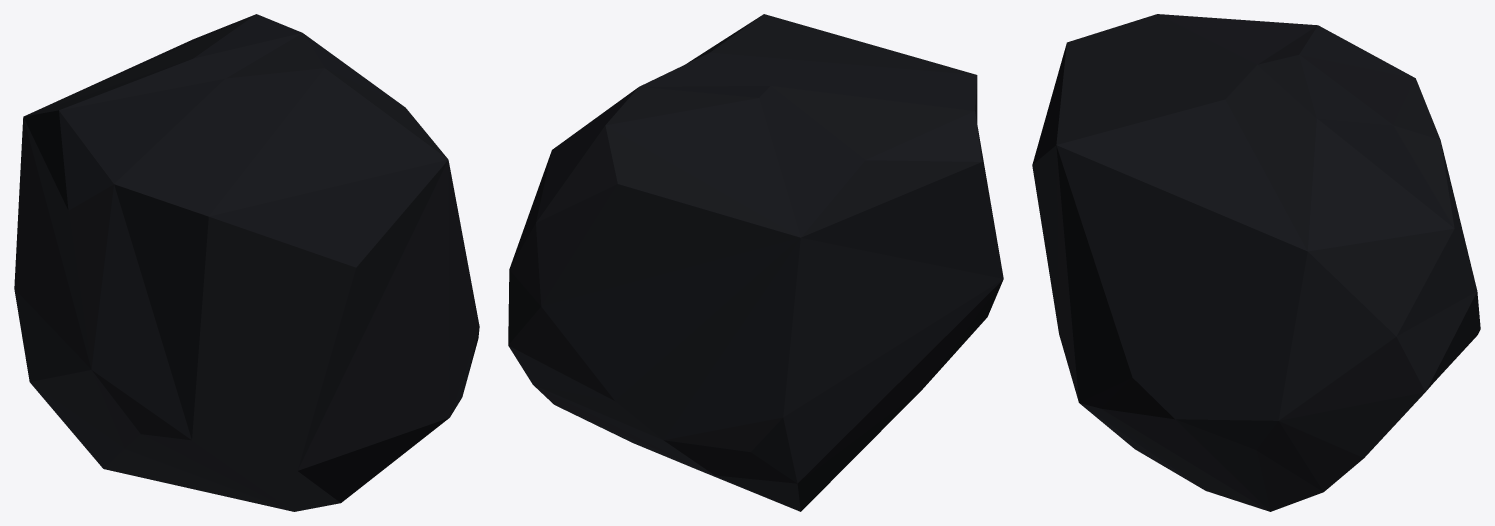
File: rock_large.fbx
3 renders of one model, left to right at view 1: azimuth 30°, elevation 25°; view 2: azimuth 150°, elevation 25°; view 3: azimuth 270°, elevation 25°, orthographic. The views are drawn at different scales.
Visible parts, largest first — view 1: rock_large; view 2: rock_large; view 3: rock_large.
Boxes of the visible parts, x1,y1,x2,y2 form: rock_large: (14, 14, 479, 511); rock_large: (508, 14, 1003, 511); rock_large: (1032, 14, 1480, 511).
Bounding box in the file's own units: 805 × 795 × 788.
